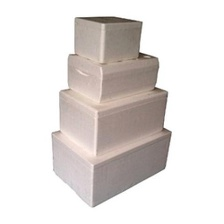foam_box: (48, 121, 174, 210), (54, 85, 172, 159), (62, 45, 162, 104), (69, 10, 146, 67)
